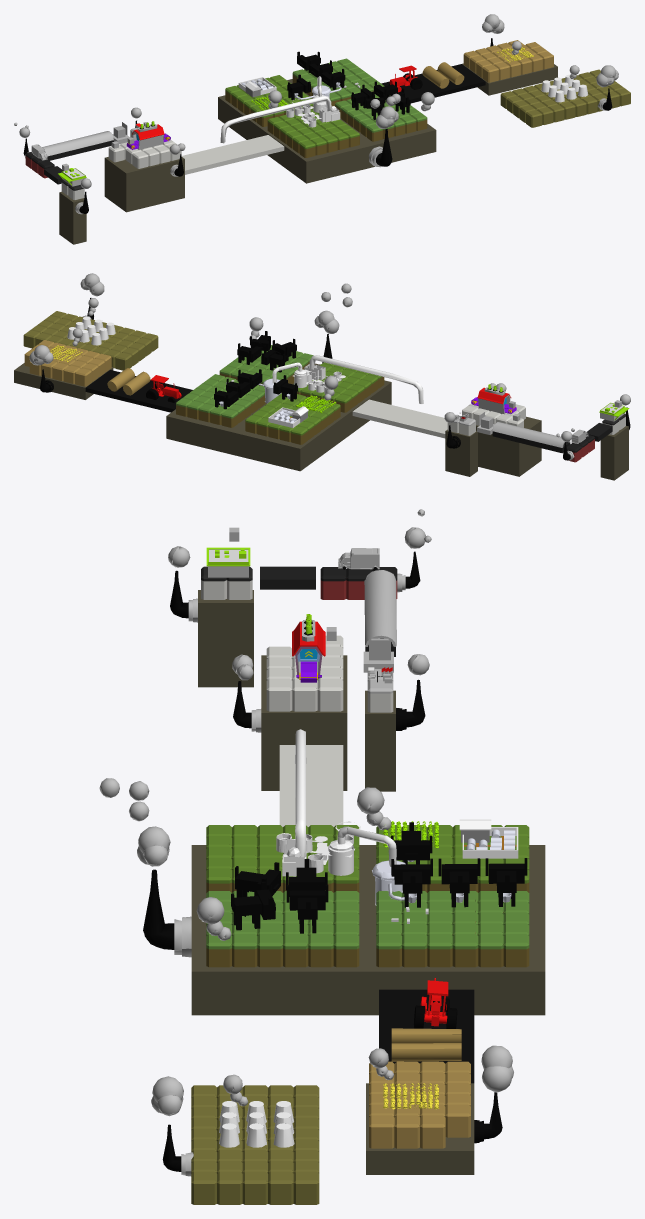
The model's file is cheese.gltf.
3 renders of one model, top to bottom at view 1: azimuth 30°, elevation 25°; view 2: azimuth 150°, elevation 25°; view 3: azimuth 270°, elevation 25°, orthographic. The views are drawn at different scales.
Visible parts, largest first — view 1: cheese; view 2: cheese; view 3: cheese.
Part boxes in pixels (x1,y1,x2,y2): cheese: (14,14,630,244); cheese: (14,273,630,480); cheese: (99,509,545,1204).
Size of the model in its own units: 50.13 by 7.89 by 17.28.
